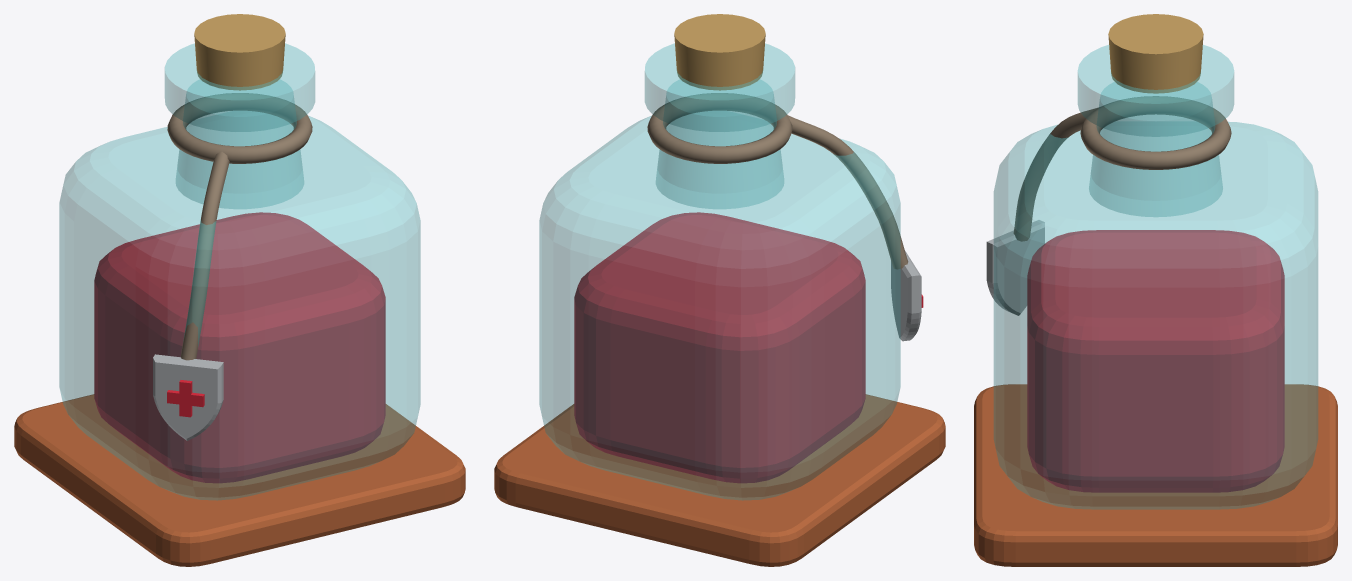
The model's file is HealthPotion.glb.
The picture shows the model from 3 angles, left to right: view 1: azimuth 30°, elevation 25°; view 2: azimuth 150°, elevation 25°; view 3: azimuth 270°, elevation 25°; orthographic projection. The views are drawn at different scales.
Parts seen in each view (by area): view 1: bottle, liquid, base, neck, rim, cork, ropeLoop, tag, ropeStrand; view 2: bottle, liquid, base, neck, rim, cork, ropeLoop, ropeStrand, tag; view 3: bottle, liquid, base, neck, rim, cork, ropeLoop, tag, ropeStrand.
Boxes of the visible parts, bbox=[...] form: bottle: bbox=[59, 115, 420, 500]; liquid: bbox=[94, 212, 385, 483]; base: bbox=[14, 394, 465, 566]; neck: bbox=[176, 79, 303, 208]; rim: bbox=[165, 43, 314, 131]; cork: bbox=[194, 14, 285, 90]; ropeLoop: bbox=[167, 93, 312, 163]; tag: bbox=[153, 354, 223, 440]; ropeStrand: bbox=[180, 151, 229, 360]; bottle: bbox=[539, 115, 900, 500]; liquid: bbox=[574, 212, 865, 483]; base: bbox=[494, 394, 945, 566]; neck: bbox=[656, 79, 783, 208]; rim: bbox=[645, 43, 794, 131]; cork: bbox=[674, 14, 765, 90]; ropeLoop: bbox=[647, 93, 792, 163]; ropeStrand: bbox=[788, 115, 908, 269]; tag: bbox=[891, 251, 921, 341]; bottle: bbox=[994, 122, 1317, 509]; liquid: bbox=[1027, 230, 1284, 492]; base: bbox=[974, 384, 1337, 566]; neck: bbox=[1089, 82, 1222, 216]; rim: bbox=[1078, 45, 1233, 136]; cork: bbox=[1108, 14, 1203, 93]; ropeLoop: bbox=[1080, 96, 1231, 169]; tag: bbox=[986, 220, 1044, 315]; ropeStrand: bbox=[1013, 107, 1098, 241].
Size of the model in its own units: 1.3 by 1.81 by 1.3.
